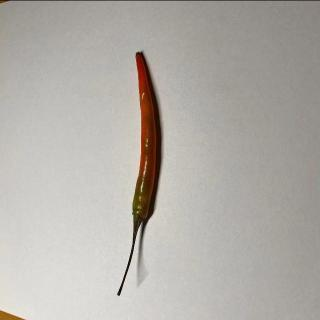Cabai Merah: (116, 51, 158, 298)
